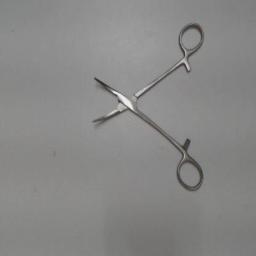Crile Artery Forceps: (85, 19, 207, 195)
